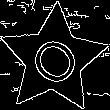O_SE: (21, 26, 87, 93)
